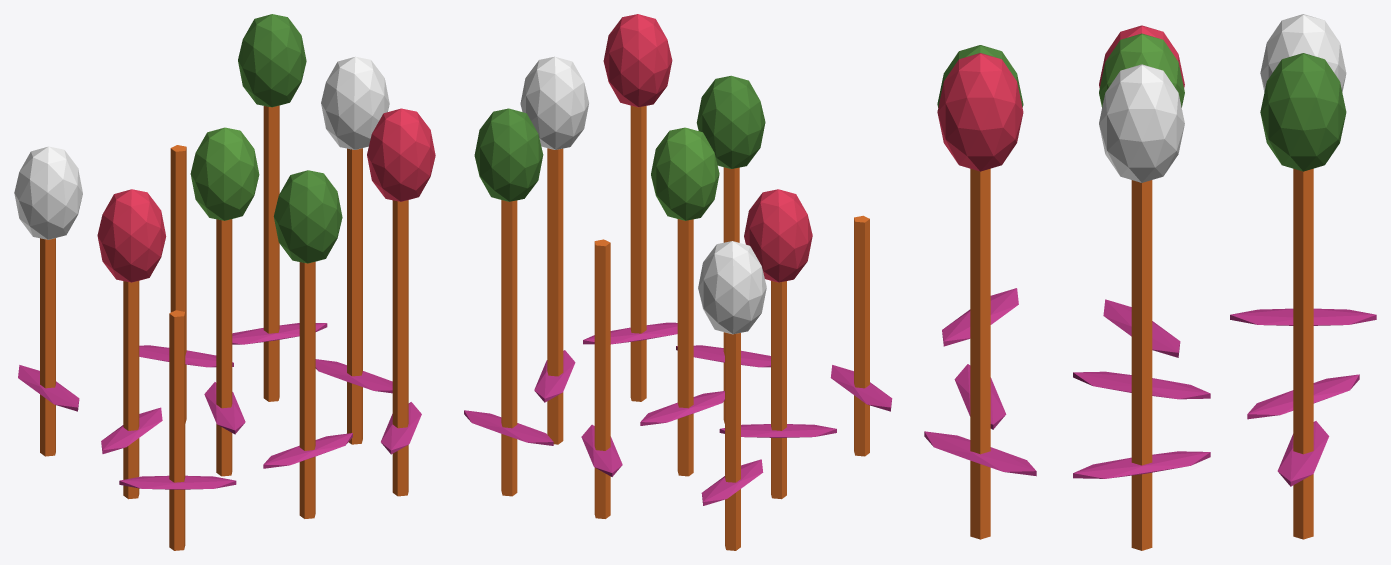
The model's file is M15_Tulips.fbx.
3 renders of one model, left to right at view 1: azimuth 30°, elevation 25°; view 2: azimuth 150°, elevation 25°; view 3: azimuth 270°, elevation 25°, orthographic. The views are drawn at different scales.
Parts seen in each view (by area): view 1: M15_Tulips; view 2: M15_Tulips; view 3: M15_Tulips.
Part boxes in pixels (x1=…): M15_Tulips: x1=14, y1=14, x2=435, y2=550; M15_Tulips: x1=464, y1=14, x2=892, y2=550; M15_Tulips: x1=924, y1=14, x2=1376, y2=550.
Size of the model in its own units: 2.56 by 2.96 by 2.52.
Materials: 1 (1 with a texture image).
